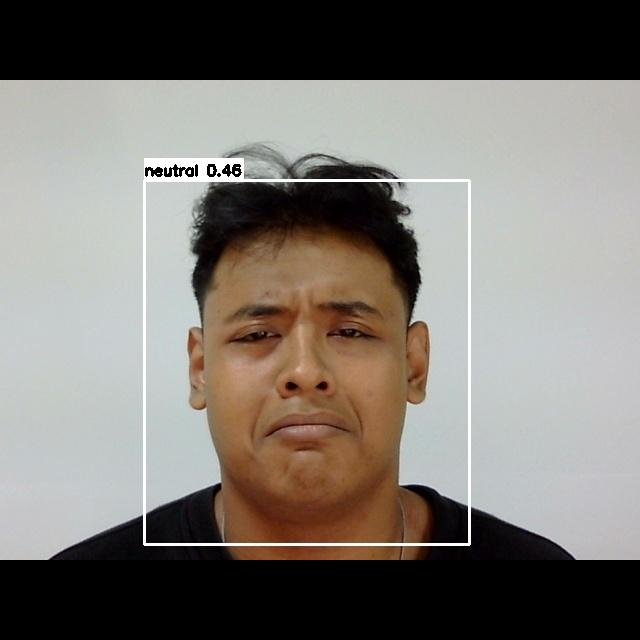Sad: (207, 275, 409, 486)
